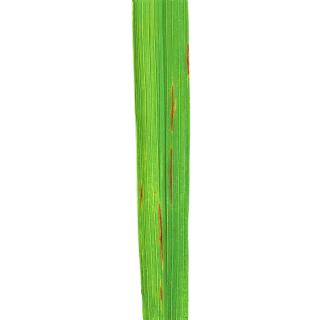Bercak-Cokelat-Sempit: (156, 204, 170, 270), (166, 146, 175, 207), (168, 81, 176, 133), (138, 183, 148, 206), (186, 41, 192, 79), (156, 278, 165, 302)
